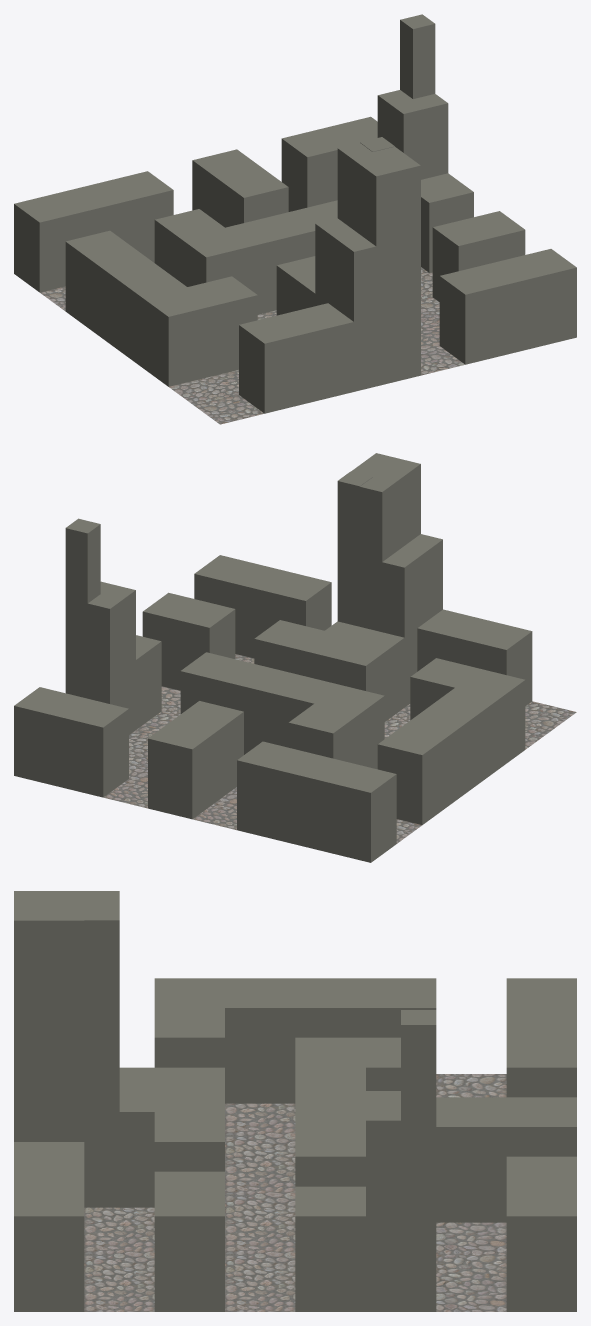
The model's file is tlie2.fbx.
The picture shows the model from 3 angles, top to bottom: view 1: azimuth 30°, elevation 25°; view 2: azimuth 150°, elevation 25°; view 3: azimuth 270°, elevation 25°; orthographic projection. The views are drawn at different scales.
Visible parts, largest first — view 1: Tile2; view 2: Tile2; view 3: Tile2.
Boxes of the visible parts, x1=… form: Tile2: x1=14, y1=14, x2=576, y2=424; Tile2: x1=14, y1=453, x2=576, y2=862; Tile2: x1=14, y1=891, x2=576, y2=1311.
Bounding box in the file's own units: 1600 × 902 × 1600.
